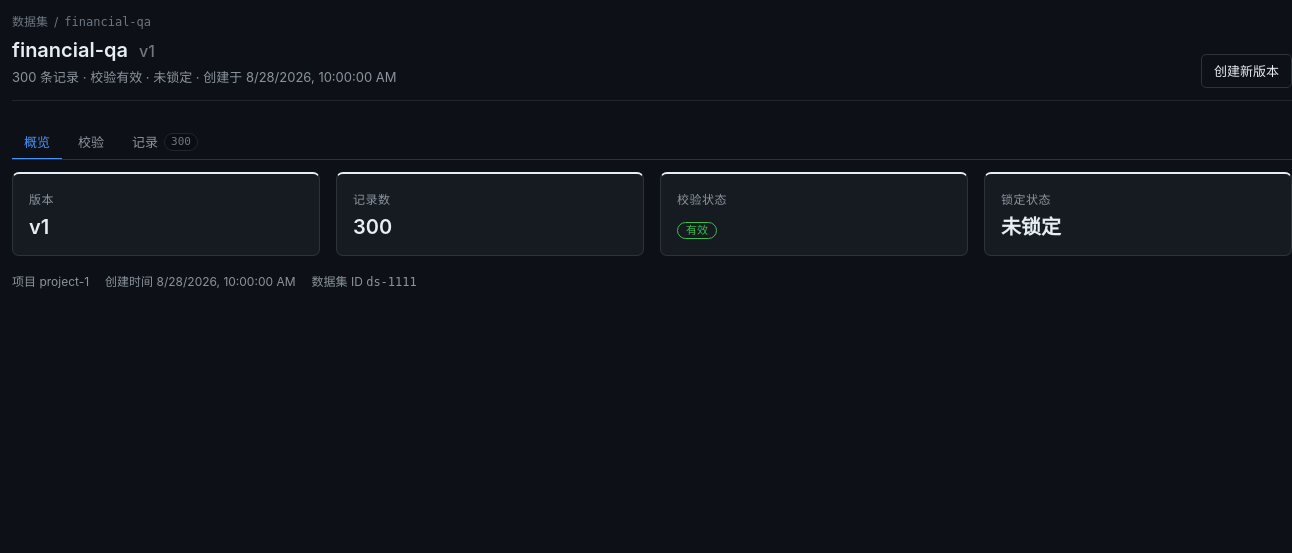
Scenario: Dataset detail page › 2. renders dataset detail metadata
Expected: the tab with test id "tab-overview" is shown, [12,126,62,160]
Expected: the 1st text "300" is shown, [164,133,198,151]
Note: Validation Tab：5 类校验报告
Click the tab with test id "tab-validation" at (91, 143), box [66,126,116,160]
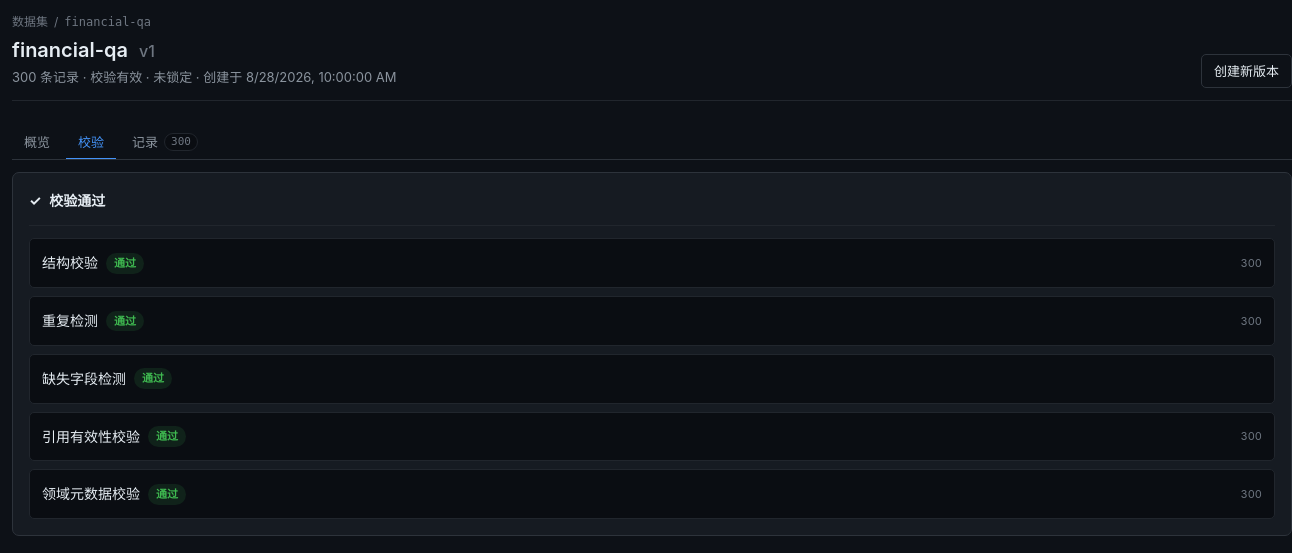
Expected: the element with test id "validation-summary" is shown, [29,190,1275,226]
Note: Records Tab：记录 DataTable
Click the tab with test id "tab-records" at (165, 143), box [120,126,210,160]
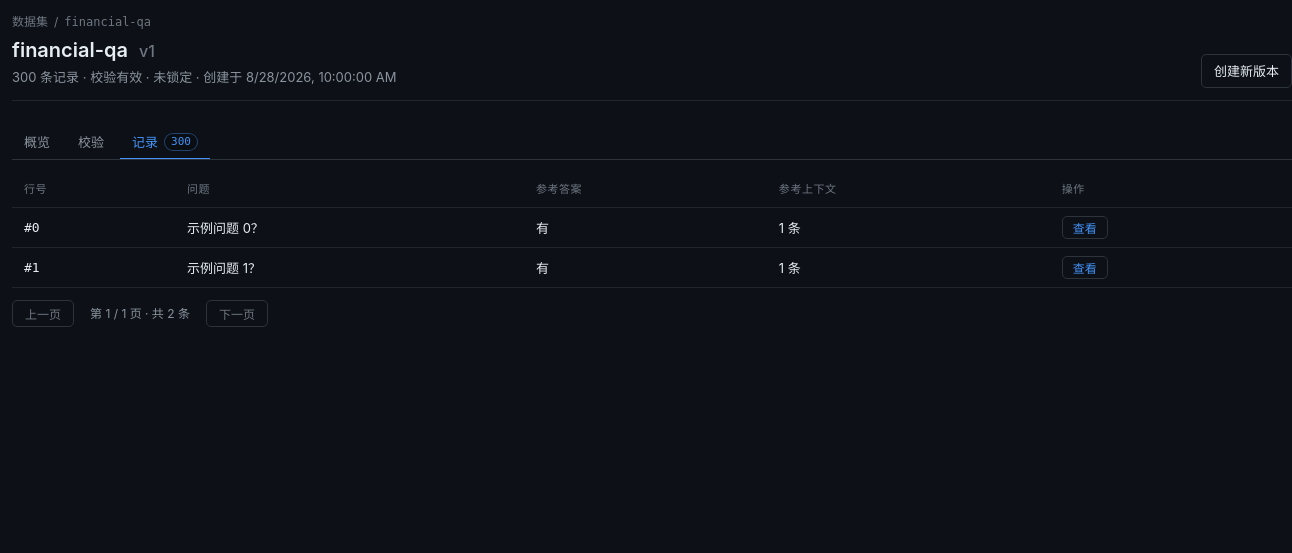
Expected: the row with test id "record-row" showing "#0 示例问题 0？ 有 1 条 查看" is shown, [12,208,1291,248]
